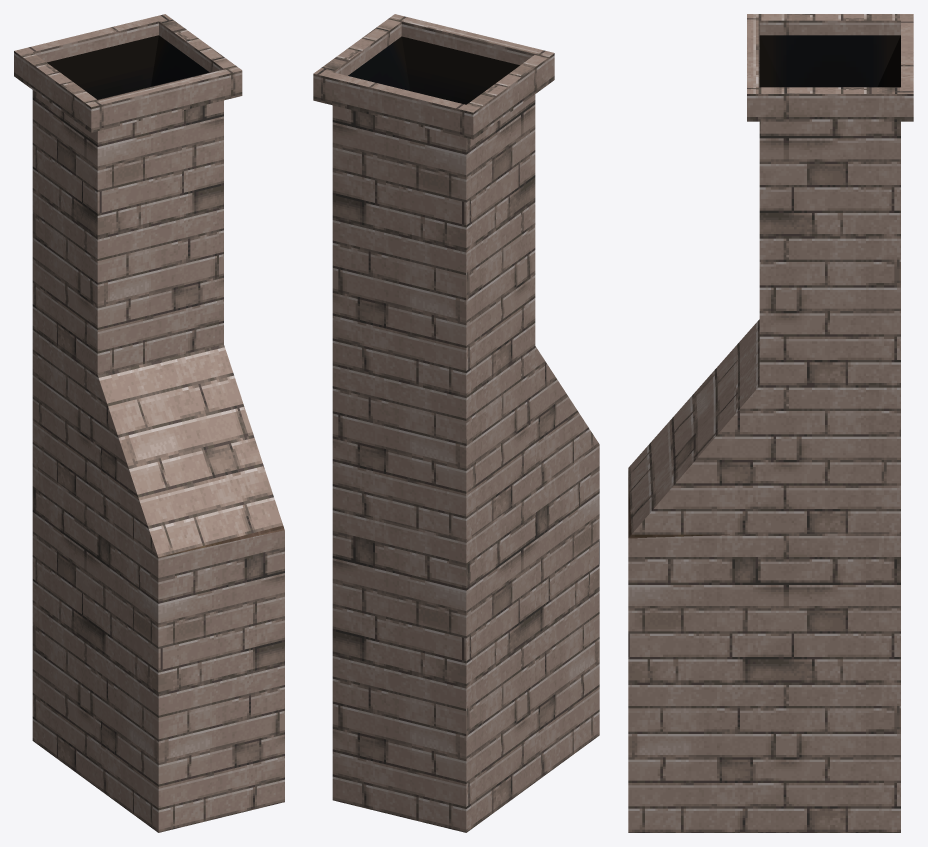
Rendered from chimney.glb.
The picture shows the model from 3 angles, left to right: view 1: azimuth 30°, elevation 25°; view 2: azimuth 150°, elevation 25°; view 3: azimuth 270°, elevation 25°; orthographic projection. The views are drawn at different scales.
Parts seen in each view (by area): view 1: chimney; view 2: chimney; view 3: chimney.
Part boxes in pixels (x1=…): chimney: x1=14, y1=14, x2=284, y2=832; chimney: x1=313, y1=14, x2=599, y2=832; chimney: x1=628, y1=14, x2=913, y2=832.
Size of the model in its own units: 1.15 by 5 by 1.74.
Materials: 1 (1 with a texture image).
